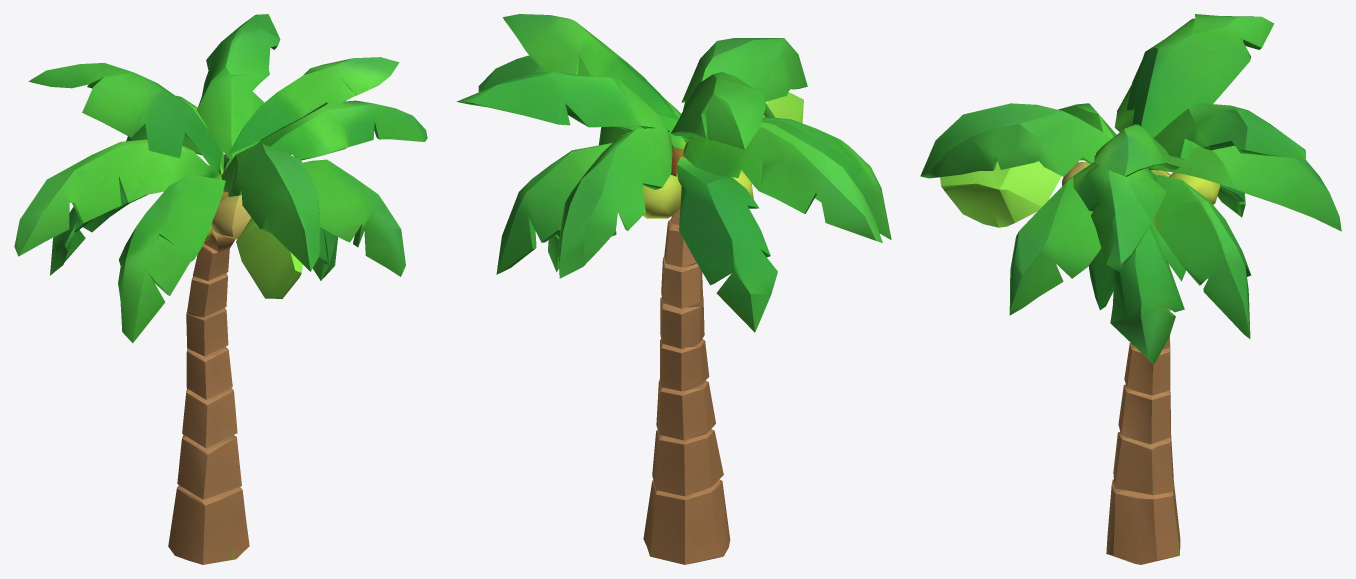
The model's file is palm.glb.
The picture shows the model from 3 angles, left to right: view 1: azimuth 30°, elevation 25°; view 2: azimuth 150°, elevation 25°; view 3: azimuth 270°, elevation 25°; orthographic projection. The views are drawn at different scales.
Parts seen in each view (by area): view 1: model; view 2: model; view 3: model.
Boxes of the visible parts, x1,y1,x2,y2 form: model: (14, 14, 427, 564); model: (456, 14, 891, 564); model: (920, 14, 1341, 564).
Size of the model in its own units: 1.65 by 1.89 by 1.47.
Materials: 1 (1 with a texture image).
